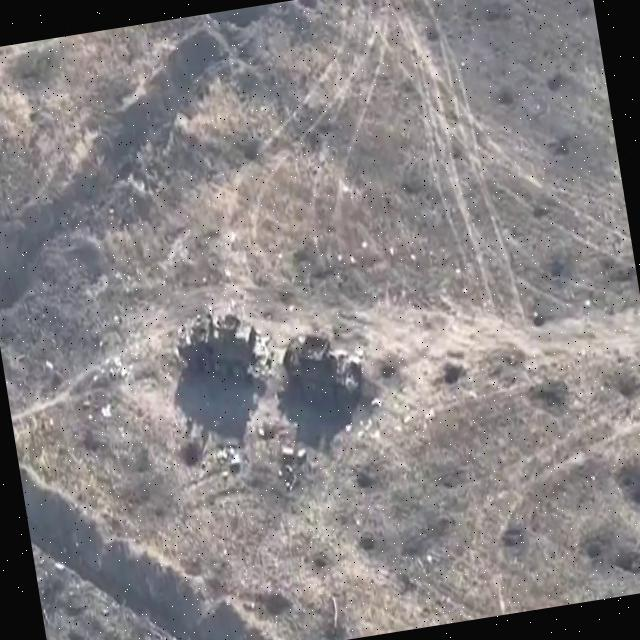APC: (172, 301, 266, 390)
Destroyed: (279, 323, 369, 408)
